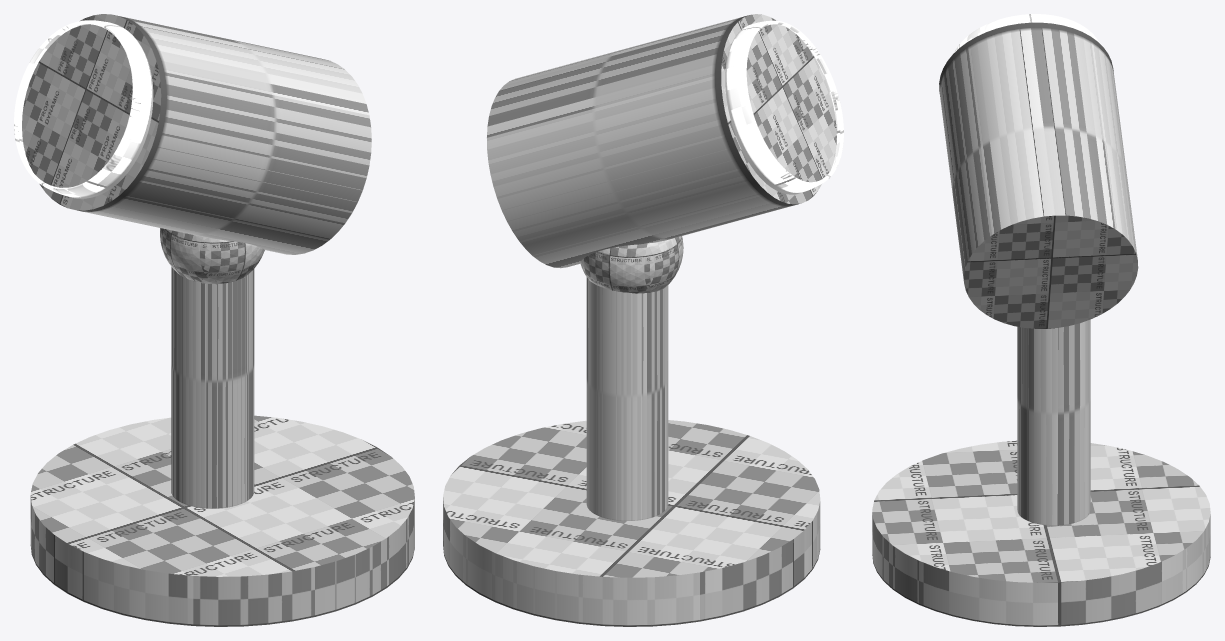
The model's file is Spotlight Base.fbx.
The picture shows the model from 3 angles, left to right: view 1: azimuth 30°, elevation 25°; view 2: azimuth 150°, elevation 25°; view 3: azimuth 270°, elevation 25°; orthographic projection. The views are drawn at different scales.
Parts seen in each view (by area): view 1: Spotlight_Base, Head, neck, light, Lense, Icosphere; view 2: Spotlight_Base, Head, neck, light, Lense, Icosphere; view 3: Head, Spotlight_Base, neck, Lense.
Part boxes in pixels (x1=…): Spotlight_Base: x1=30, y1=415, x2=414, y2=626; Head: x1=39, y1=14, x2=371, y2=254; neck: x1=171, y1=267, x2=254, y2=508; light: x1=22, y1=24, x2=132, y2=187; Lense: x1=14, y1=20, x2=153, y2=198; Icosphere: x1=160, y1=228, x2=264, y2=284; Spotlight_Base: x1=443, y1=420, x2=820, y2=626; Head: x1=487, y1=14, x2=821, y2=268; neck: x1=586, y1=277, x2=668, y2=520; light: x1=746, y1=24, x2=836, y2=182; Lense: x1=725, y1=20, x2=843, y2=194; Icosphere: x1=580, y1=236, x2=683, y2=293; Head: x1=939, y1=22, x2=1138, y2=328; Spotlight_Base: x1=872, y1=440, x2=1210, y2=626; neck: x1=1017, y1=319, x2=1090, y2=525; Lense: x1=954, y1=14, x2=1099, y2=52.
Size of the model in its own units: 33.59 by 49.68 by 31.17.
